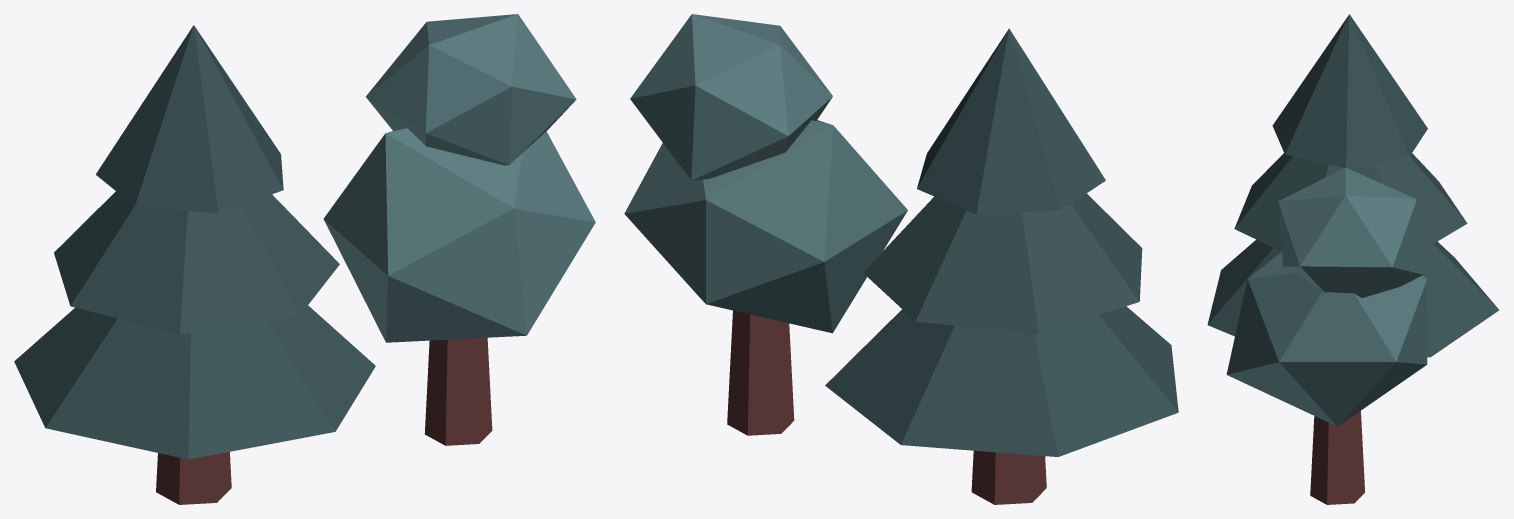
Rendered from grove8.glb.
3 views of the same model, side by side, from view 1: azimuth 30°, elevation 25°; view 2: azimuth 150°, elevation 25°; view 3: azimuth 270°, elevation 25° (orthographic). The views are drawn at different scales.
Parts seen in each view (by area): view 1: grove8; view 2: grove8; view 3: grove8.
Part boxes in pixels (x1,y1,x2,y2): grove8: (14,14,595,504); grove8: (624,14,1178,504); grove8: (1207,14,1498,504).
Size of the model in its own units: 1.19 by 1.02 by 0.7173.
